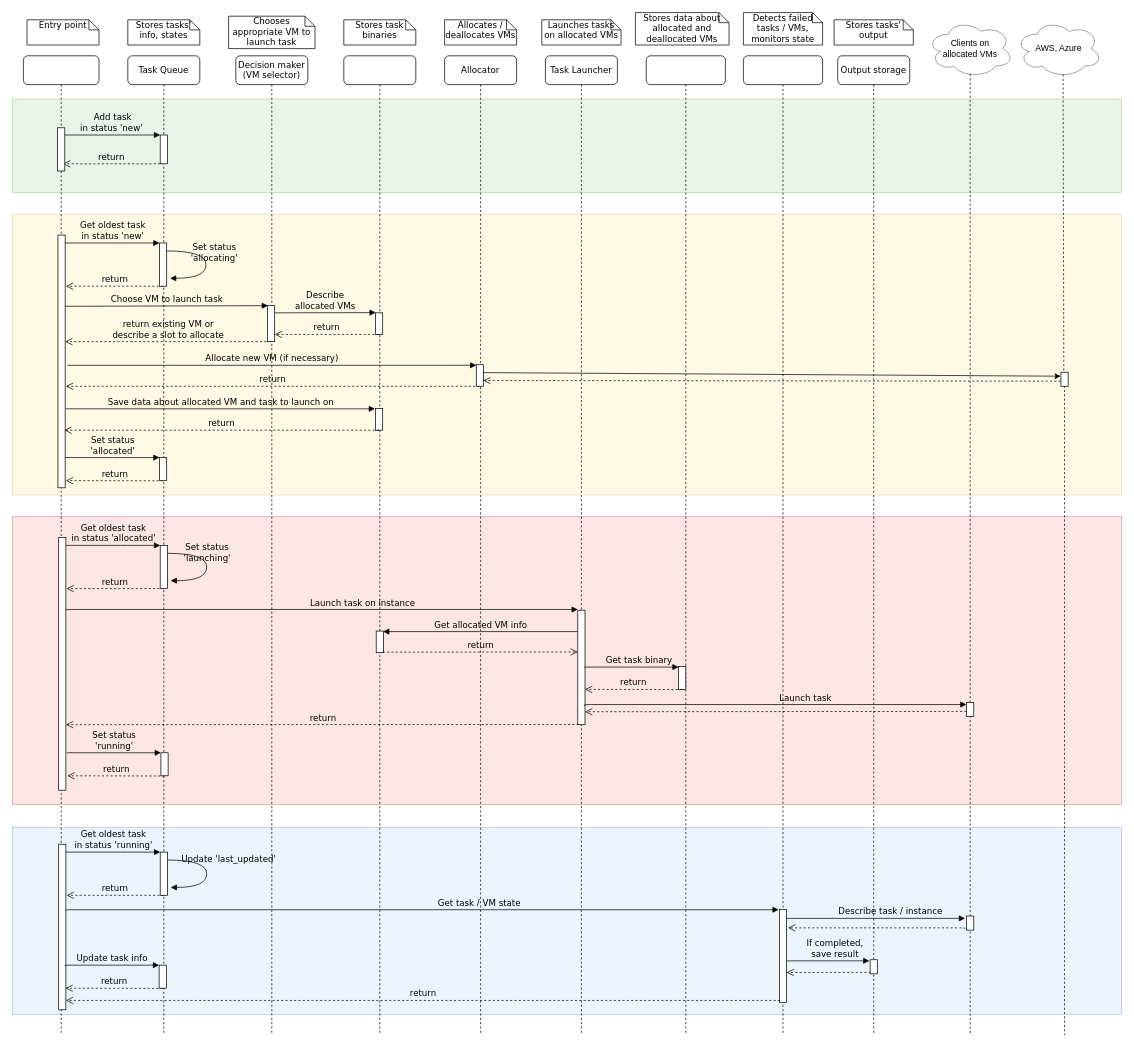
Image size: 1134x1048. Some labels were removed from this diagram. Here are the shapes that lost their labels. From the top down, the box of each, then its label:
(23, 55, 99, 1035): Task Registry
(343, 55, 416, 1035): Allocated VMs Storage
(645, 55, 725, 1035): Blob Storage
(743, 55, 823, 1035): Monitor
